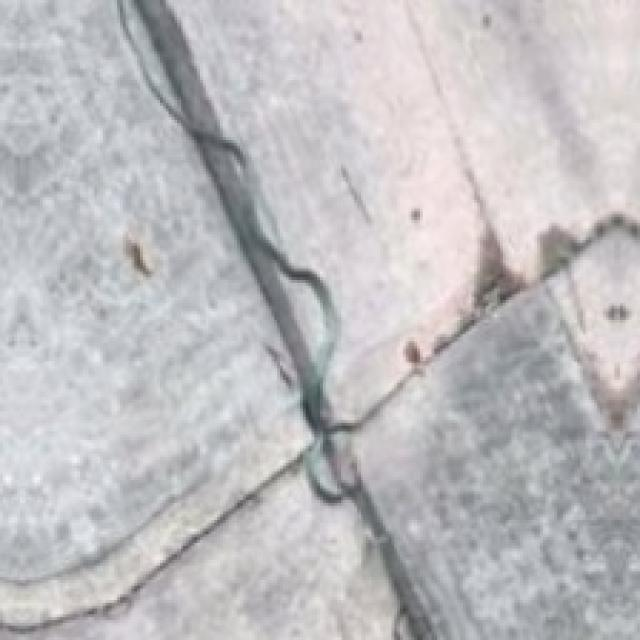paradise tree snake: (169, 0, 637, 414), (0, 0, 309, 623), (6, 466, 394, 637), (434, 500, 637, 637), (440, 426, 520, 500)
